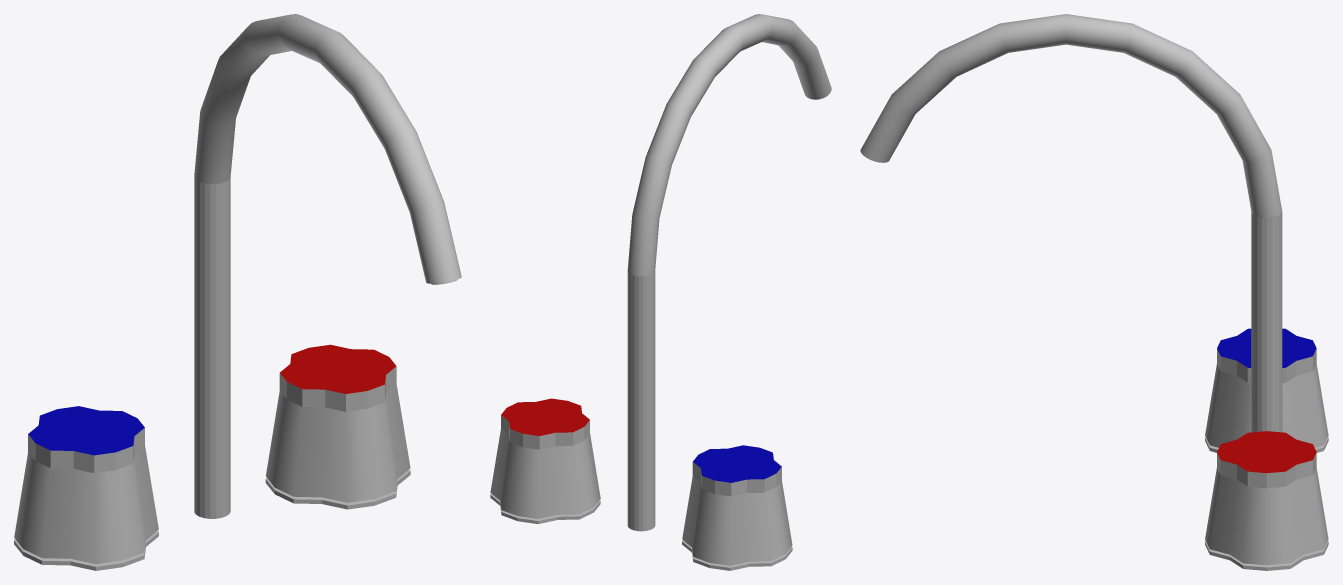
Rendered from Faucet.fbx.
3 renders of one model, left to right at view 1: azimuth 30°, elevation 25°; view 2: azimuth 150°, elevation 25°; view 3: azimuth 270°, elevation 25°, orthographic. The views are drawn at different scales.
Visible parts, largest first — view 1: Faucet, Handle_R, Handle_L; view 2: Faucet, Handle_L, Handle_R; view 3: Faucet, Handle_R, Handle_L.
Boxes of the visible parts, <box> form: Faucet: <box>194,14,461,518</box>; Handle_R: <box>265,344,410,509</box>; Handle_L: <box>14,406,158,570</box>; Faucet: <box>627,14,831,531</box>; Handle_L: <box>682,445,792,570</box>; Handle_R: <box>490,398,600,523</box>; Faucet: <box>860,14,1282,432</box>; Handle_R: <box>1205,431,1328,570</box>; Handle_L: <box>1205,328,1328,452</box>.
Size of the model in its own units: 23.91 by 34.22 by 30.31.
